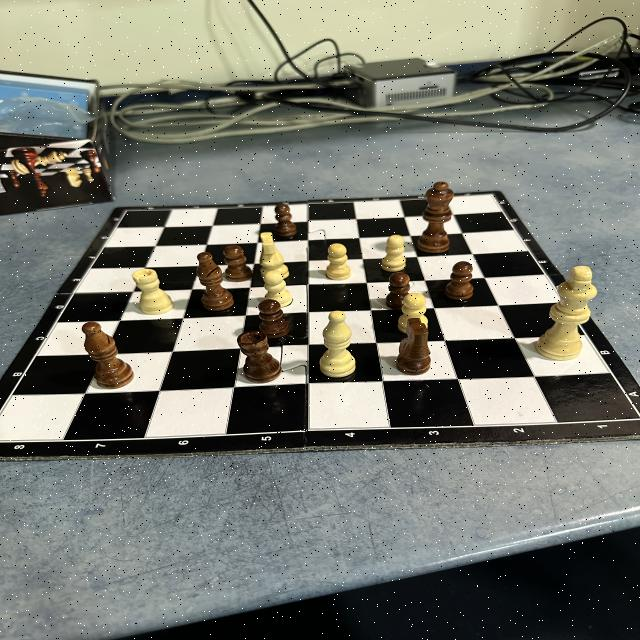Black-Bishop: (82, 322, 134, 388), (198, 252, 235, 310)
Black-Knight: (396, 317, 431, 375)
Black-Pawn: (444, 261, 474, 299), (260, 300, 290, 338), (223, 246, 253, 282), (386, 272, 411, 310), (274, 205, 298, 237)
Black-Queen: (416, 182, 454, 252)
Black-Rook: (238, 330, 282, 383)
White-Bishop: (318, 310, 356, 378)
White-King: (536, 266, 598, 360)
White-Knight: (260, 232, 290, 280)
White-Pawn: (398, 293, 428, 335), (264, 272, 292, 308), (380, 235, 406, 271), (325, 244, 351, 280)
White-Rook: (134, 268, 172, 314)
